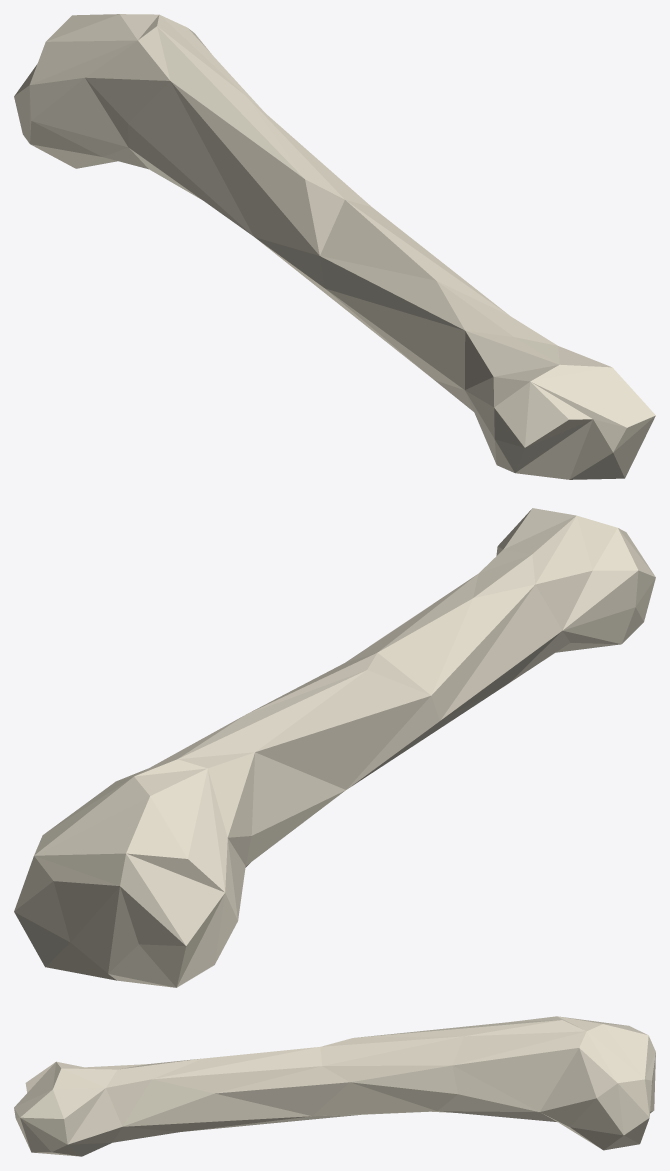
The model's file is Bone3.fbx.
3 renders of one model, top to bottom at view 1: azimuth 30°, elevation 25°; view 2: azimuth 150°, elevation 25°; view 3: azimuth 270°, elevation 25°, orthographic. The views are drawn at different scales.
Visible parts, largest first — view 1: Bone3; view 2: Bone3; view 3: Bone3.
Part boxes in pixels (x1,y1,x2,y2): Bone3: (14,14,655,479); Bone3: (14,508,655,987); Bone3: (14,1016,655,1156).
Bounding box in the file's own units: 46.08 × 42.45 × 213.
